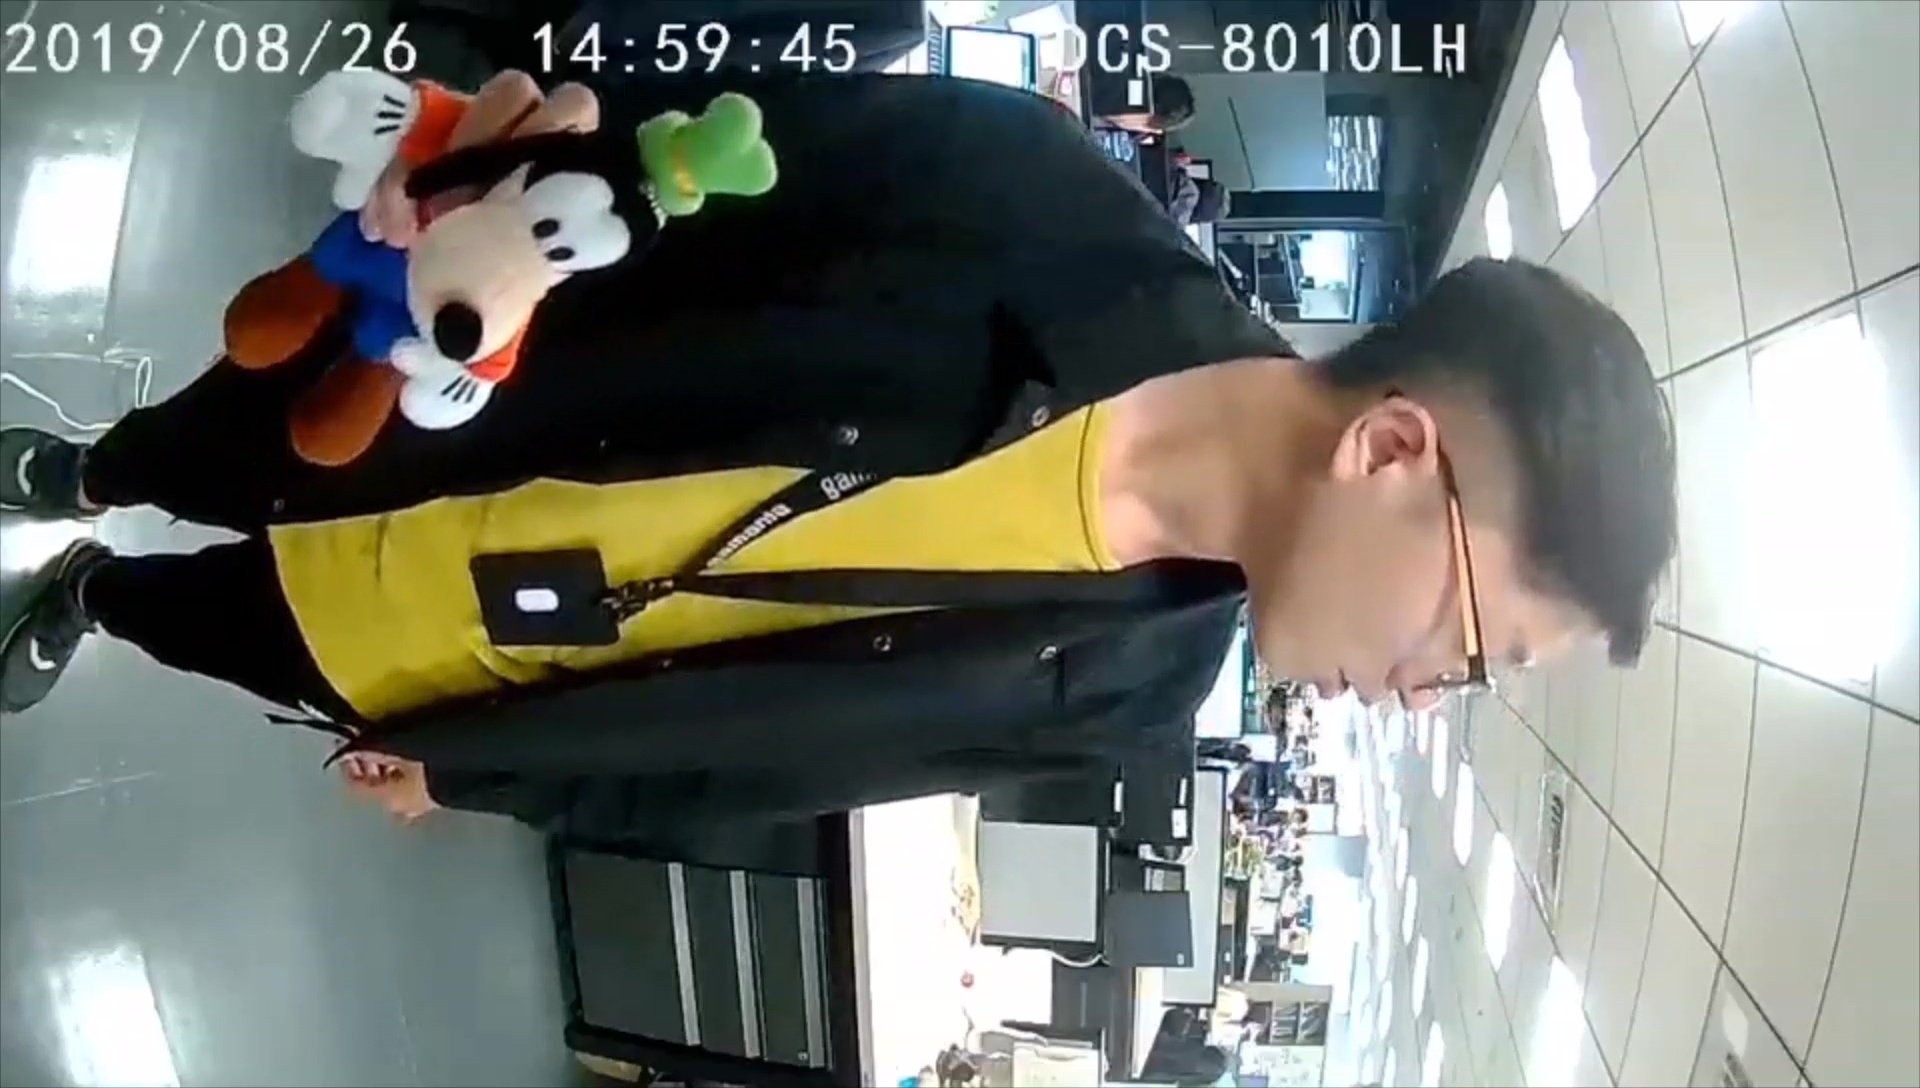goofy: (229, 69, 785, 463)
